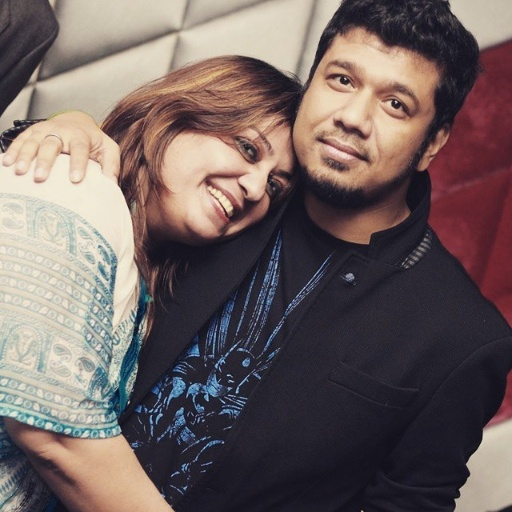hand: (14, 102, 110, 192)
